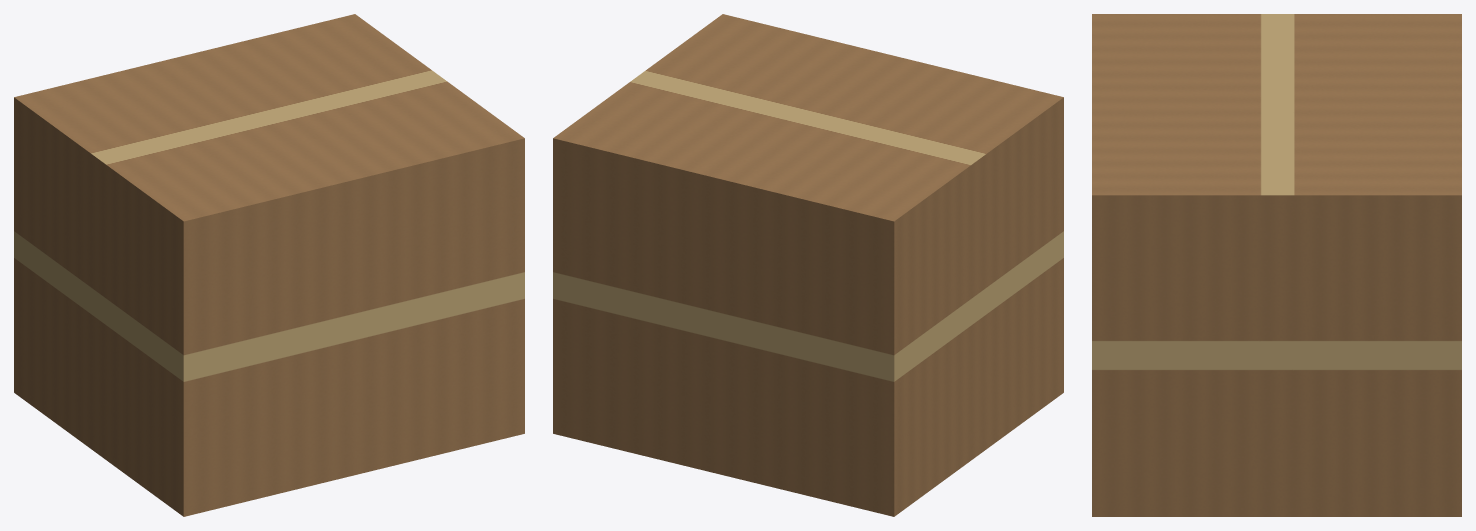
File: Prop_CardboardBox.glb
3 views of the same model, side by side, from view 1: azimuth 30°, elevation 25°; view 2: azimuth 150°, elevation 25°; view 3: azimuth 270°, elevation 25° (orthographic). The views are drawn at different scales.
Visible parts, largest first — view 1: Carton; view 2: Carton; view 3: Carton.
Boxes of the visible parts, x1=… form: Carton: x1=14, y1=14, x2=524, y2=516; Carton: x1=553, y1=14, x2=1063, y2=516; Carton: x1=1092, y1=14, x2=1461, y2=516.
Size of the model in its own units: 0.58 by 0.48 by 0.5.
Materials: 1 (1 with a texture image).
